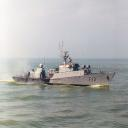Fragata: (12, 41, 116, 90)
